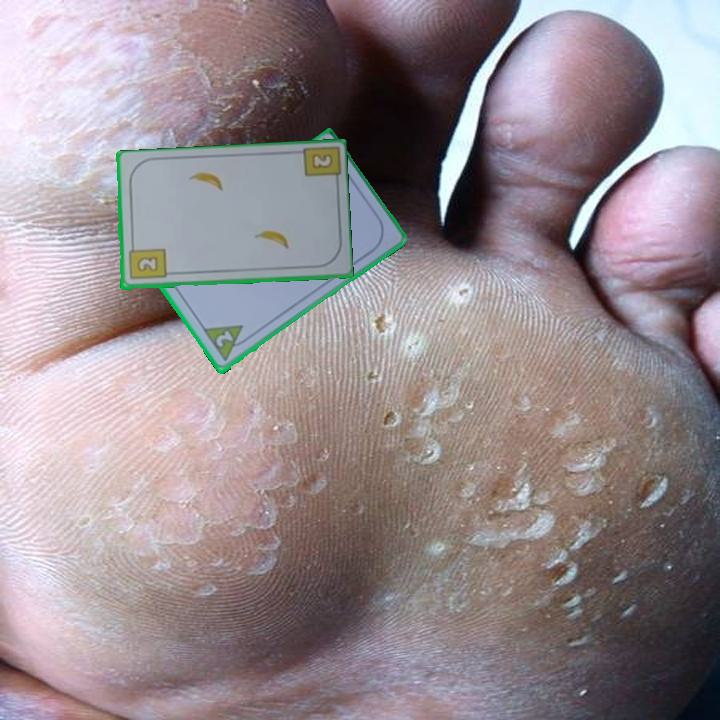2b: (125, 241, 168, 282), (308, 150, 333, 172)
2p: (212, 327, 236, 351)
